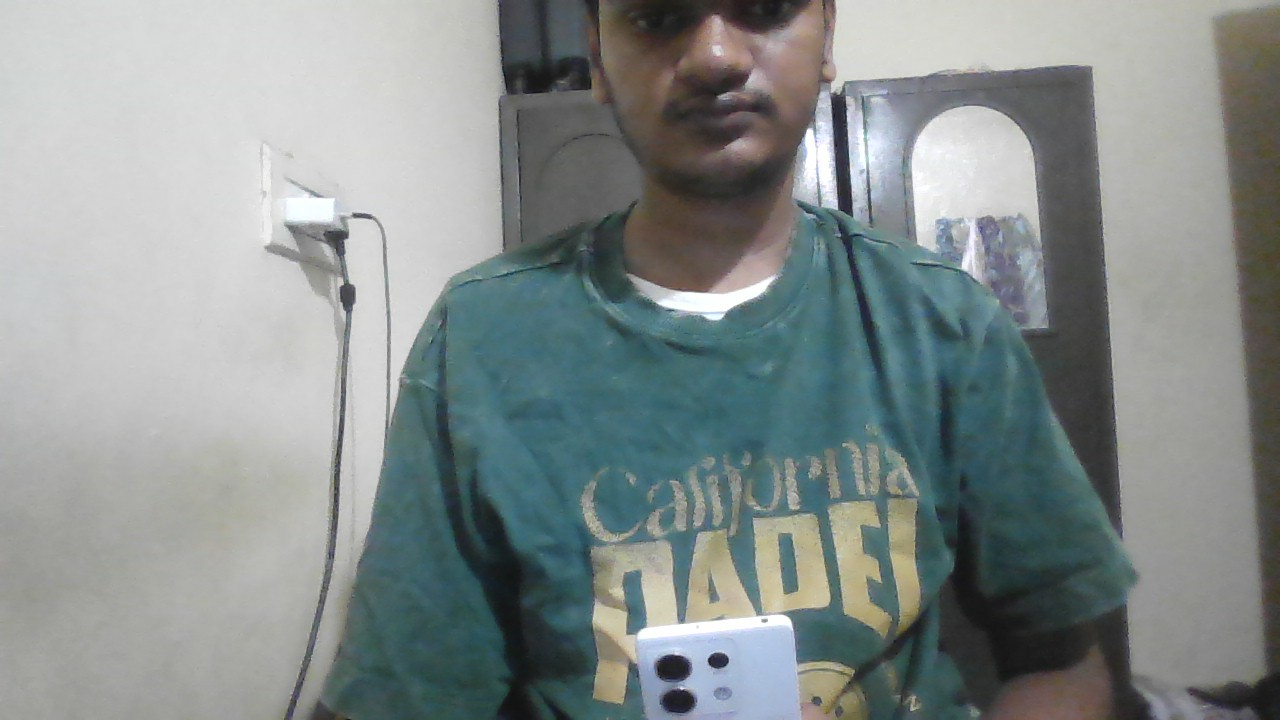phone: (645, 614, 797, 720)
